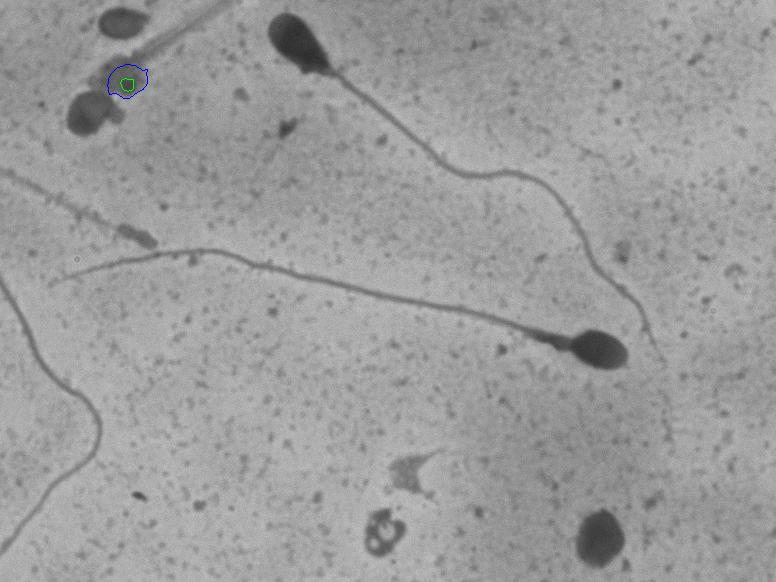Abnormal: (242, 6, 691, 378)
Normal: (36, 231, 634, 397)
